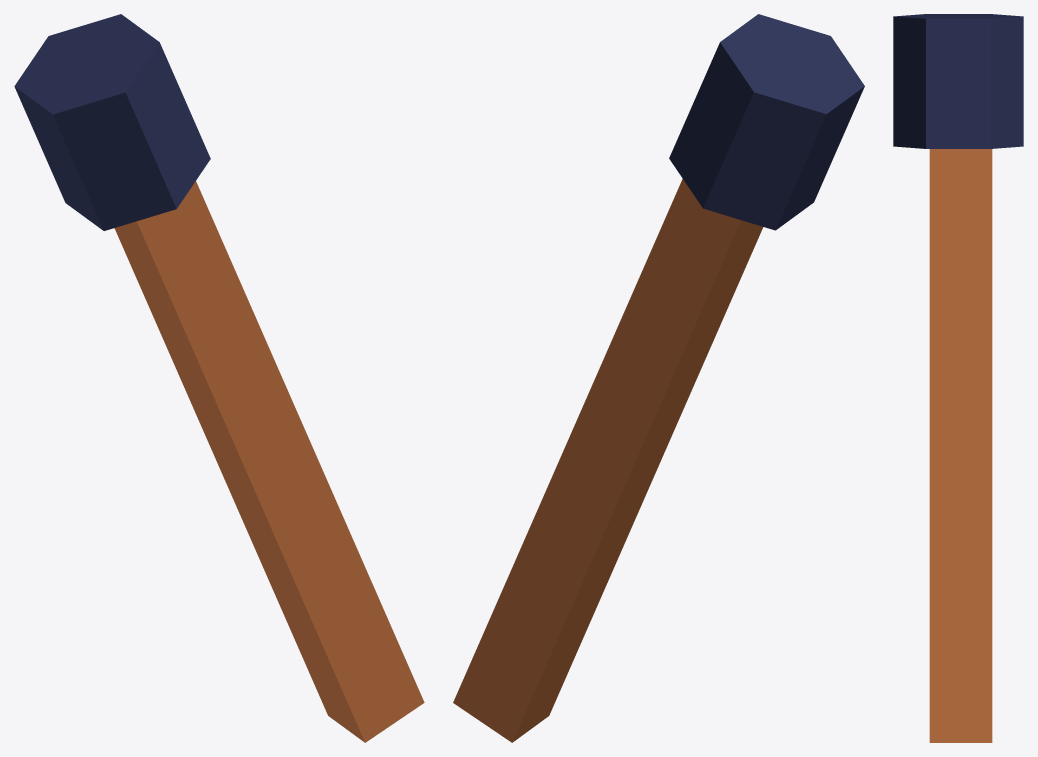
File: Torch.fbx
3 renders of one model, left to right at view 1: azimuth 30°, elevation 25°; view 2: azimuth 150°, elevation 25°; view 3: azimuth 270°, elevation 25°, orthographic. The views are drawn at different scales.
Visible parts, largest first — view 1: obj_0.016; view 2: obj_0.016; view 3: obj_0.016.
Part boxes in pixels (x1,y1,x2,y2): obj_0.016: (14, 14, 424, 742); obj_0.016: (453, 14, 864, 742); obj_0.016: (893, 14, 1023, 742).
Bounding box in the file's own units: 1163 × 2239 × 416.
